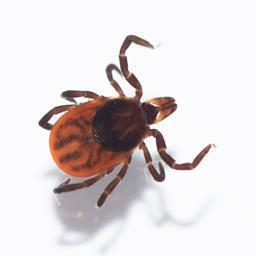Ixodes scapularis: (39, 35, 216, 207)
